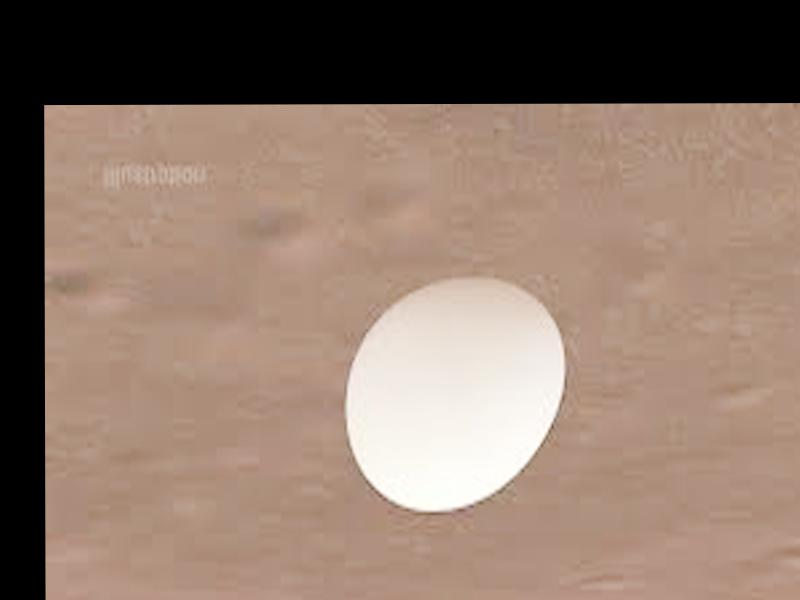Eggs: (344, 278, 567, 510)
